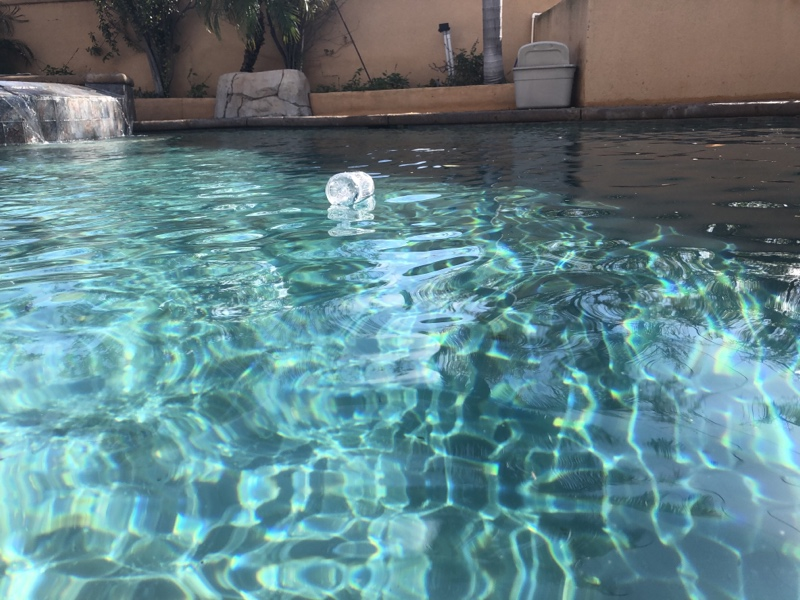Plastic Bottle: (321, 166, 379, 214)
